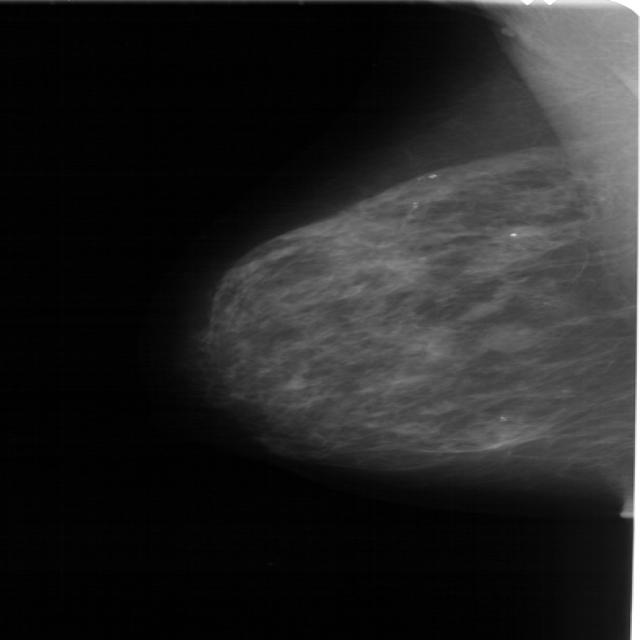tumour: (479, 321, 539, 351)
